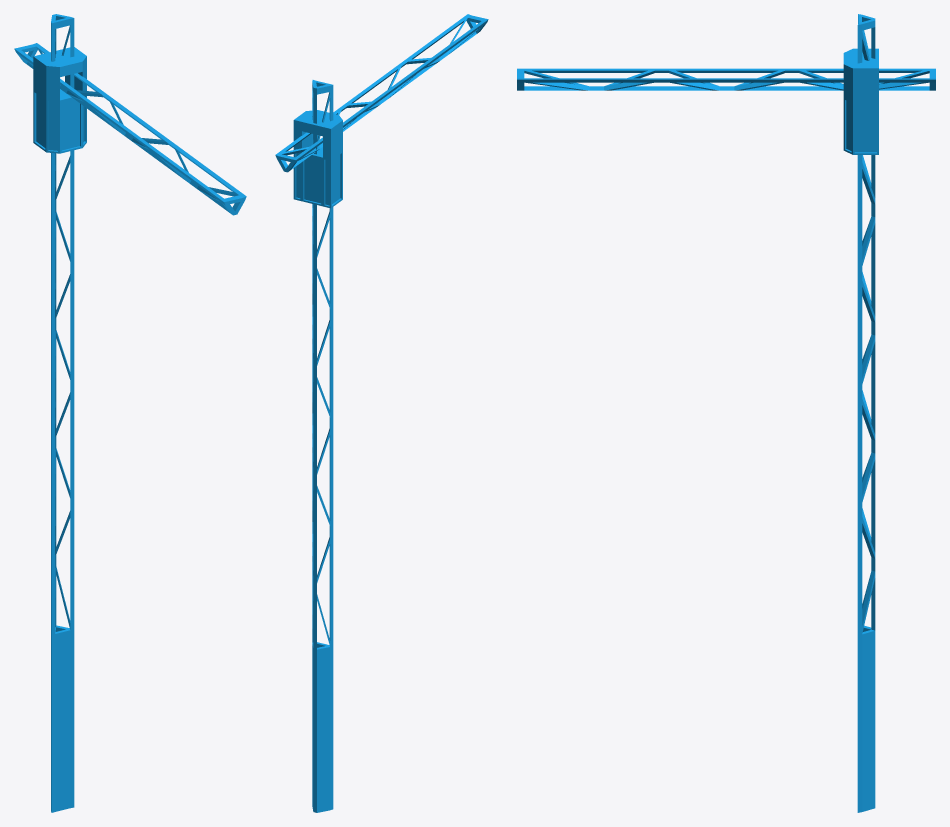
File: Crane.FBX
3 views of the same model, side by side, from view 1: azimuth 30°, elevation 25°; view 2: azimuth 150°, elevation 25°; view 3: azimuth 270°, elevation 25° (orthographic). The views are drawn at different scales.
Visible parts, largest first — view 1: Box1310; view 2: Box1310; view 3: Box1310.
Part boxes in pixels (x1,y1,x2,y2): Box1310: [14, 14, 246, 812]; Box1310: [275, 14, 488, 812]; Box1310: [517, 14, 935, 812].
Size of the model in its own units: 24.04 by 215 by 447.
